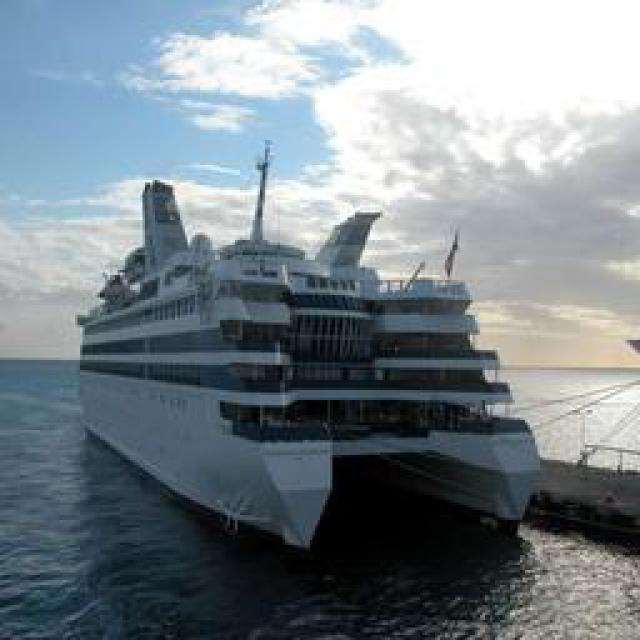Ship: (84, 152, 549, 560)
